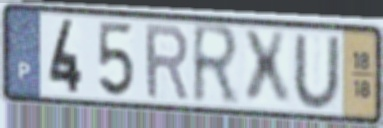4: (47, 17, 85, 96)
5: (96, 19, 135, 99)
R: (190, 21, 243, 109), (142, 22, 191, 103)
U: (292, 33, 343, 112)
X: (239, 29, 293, 108)
